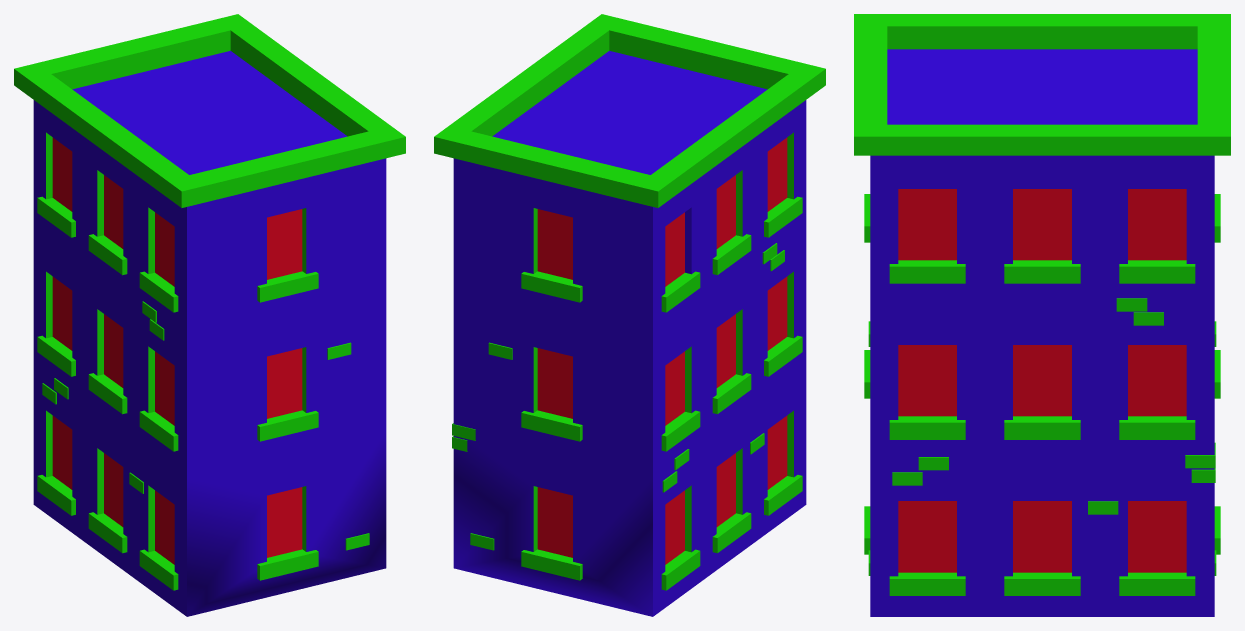
The model's file is house_1.fbx.
The picture shows the model from 3 angles, left to right: view 1: azimuth 30°, elevation 25°; view 2: azimuth 150°, elevation 25°; view 3: azimuth 270°, elevation 25°; orthographic projection. The views are drawn at different scales.
Visible parts, largest first — view 1: Building_2; view 2: Building_2; view 3: Building_2.
Boxes of the visible parts, box(x1,y1,x2,y2) form: Building_2: box(14, 14, 405, 616); Building_2: box(434, 14, 825, 616); Building_2: box(854, 14, 1230, 616).
Size of the model in its own units: 704 by 1301 by 912.
